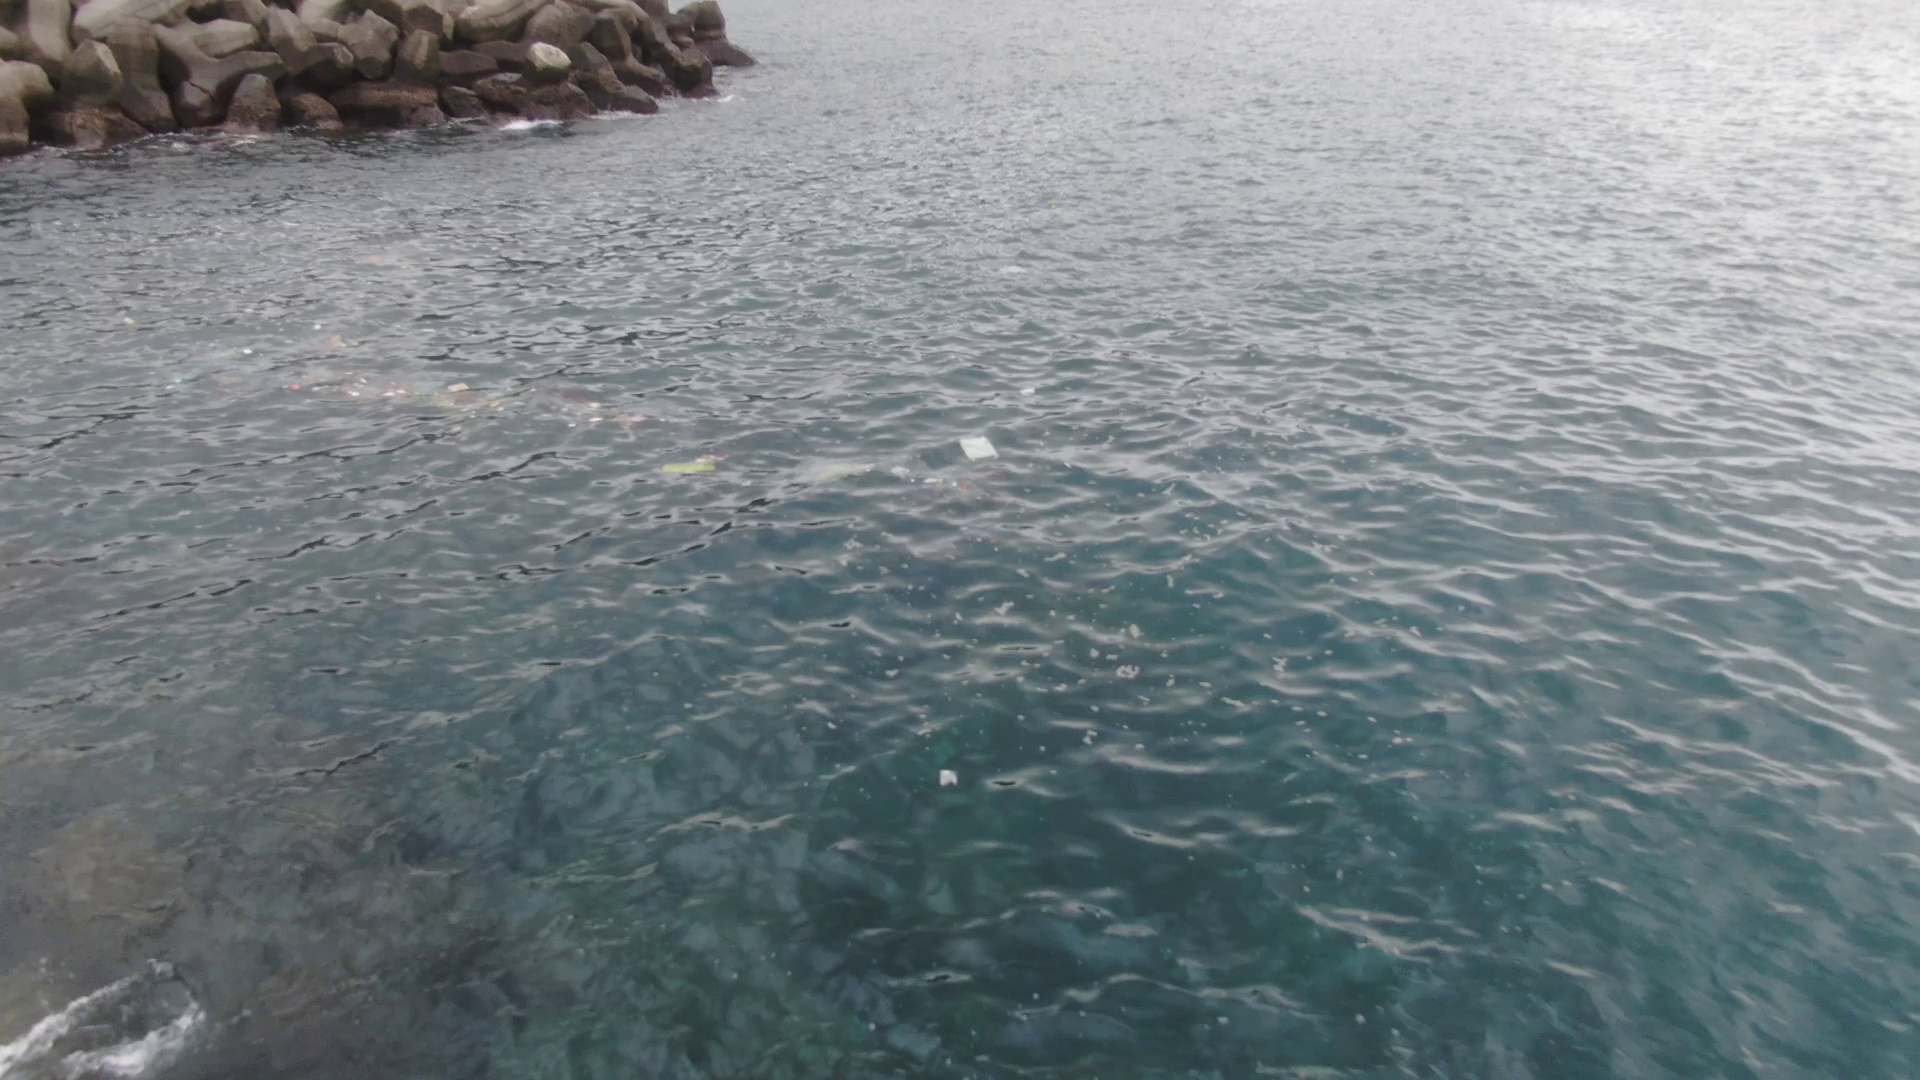garbage: (949, 431, 1009, 468), (655, 454, 728, 479)
